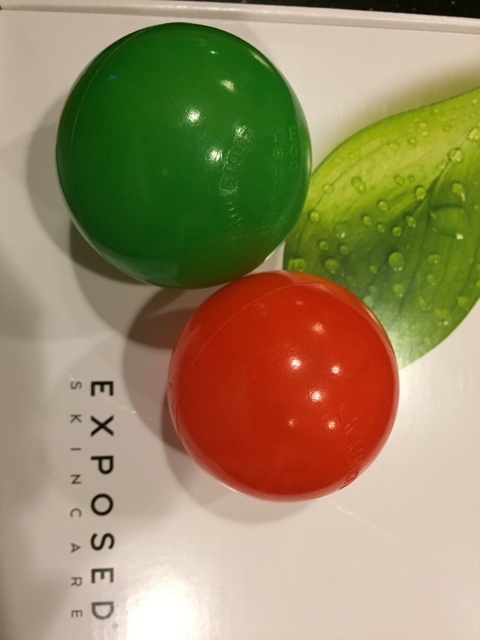Ball: (171, 267, 402, 501)
